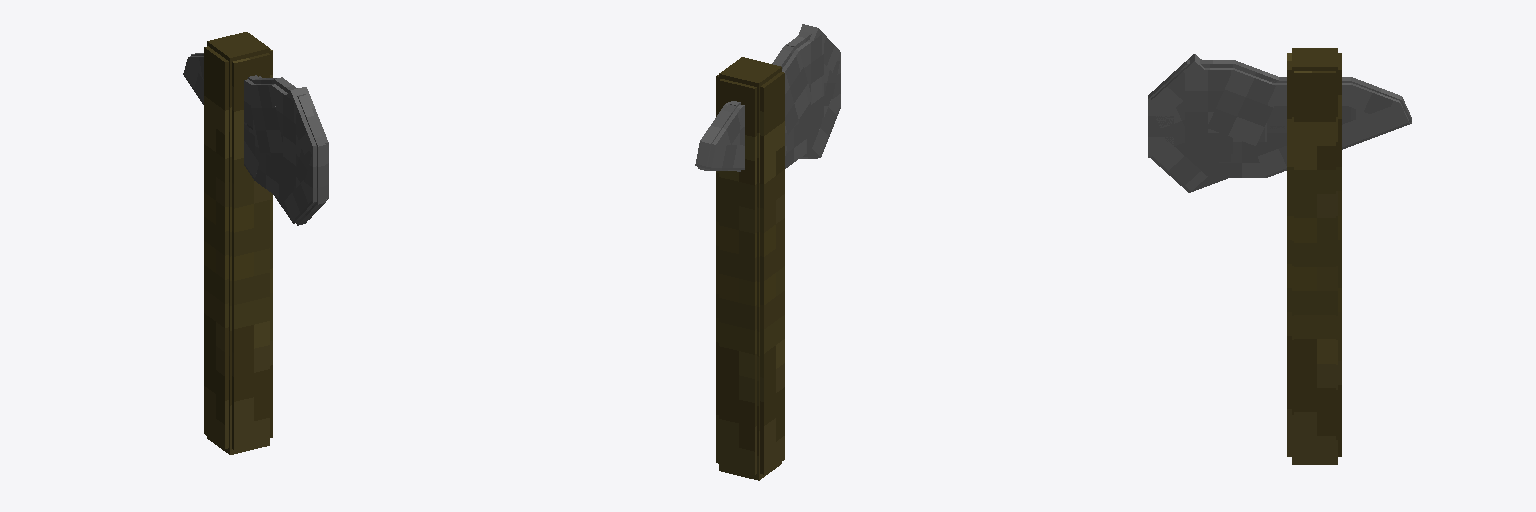
The picture shows the model from 3 angles: view 1: azimuth 30°, elevation 25°; view 2: azimuth 150°, elevation 25°; view 3: azimuth 270°, elevation 25°; orthographic projection.
Parts seen in each view (by area): view 1: cube; view 2: cube; view 3: cube.
Boxes of the visible parts, x1,y1,x2,y2 form: cube: [183, 32, 328, 454]; cube: [695, 24, 840, 480]; cube: [1148, 48, 1411, 464].
Bounding box in the file's own units: 0.15 × 1.19 × 0.7147.
2 materials, 2 textured.